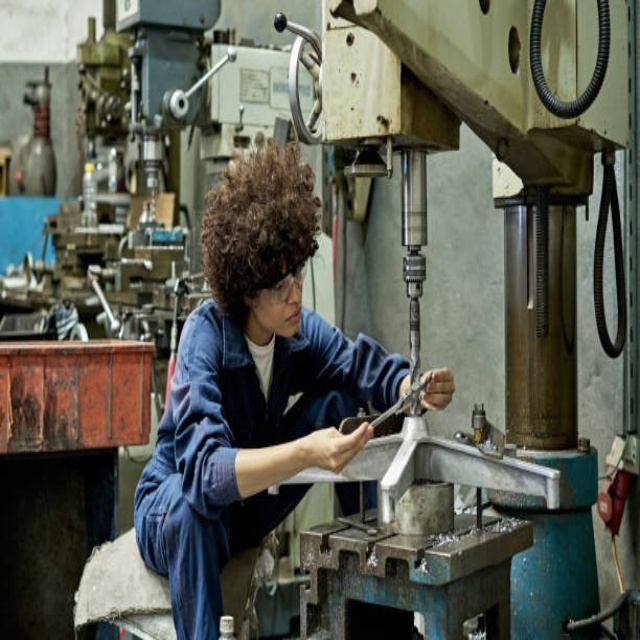Gafas: (260, 264, 308, 301)
Sin_guantes: (316, 418, 375, 475), (415, 366, 456, 412)
Sin_mascara: (279, 303, 304, 333)
